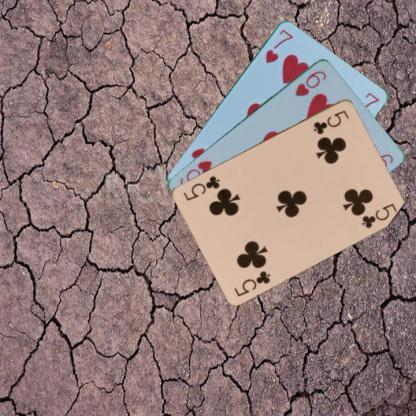5c: (232, 268, 272, 298), (310, 107, 350, 136)
6h: (292, 67, 328, 98)
7h: (262, 26, 294, 66)
